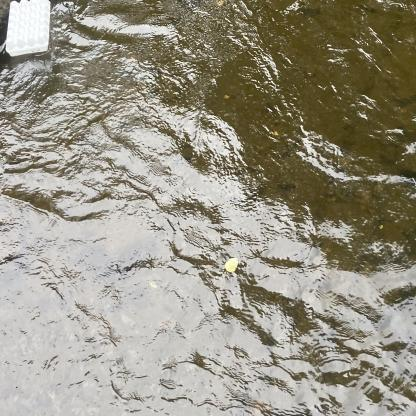trash: (3, 0, 56, 64)
